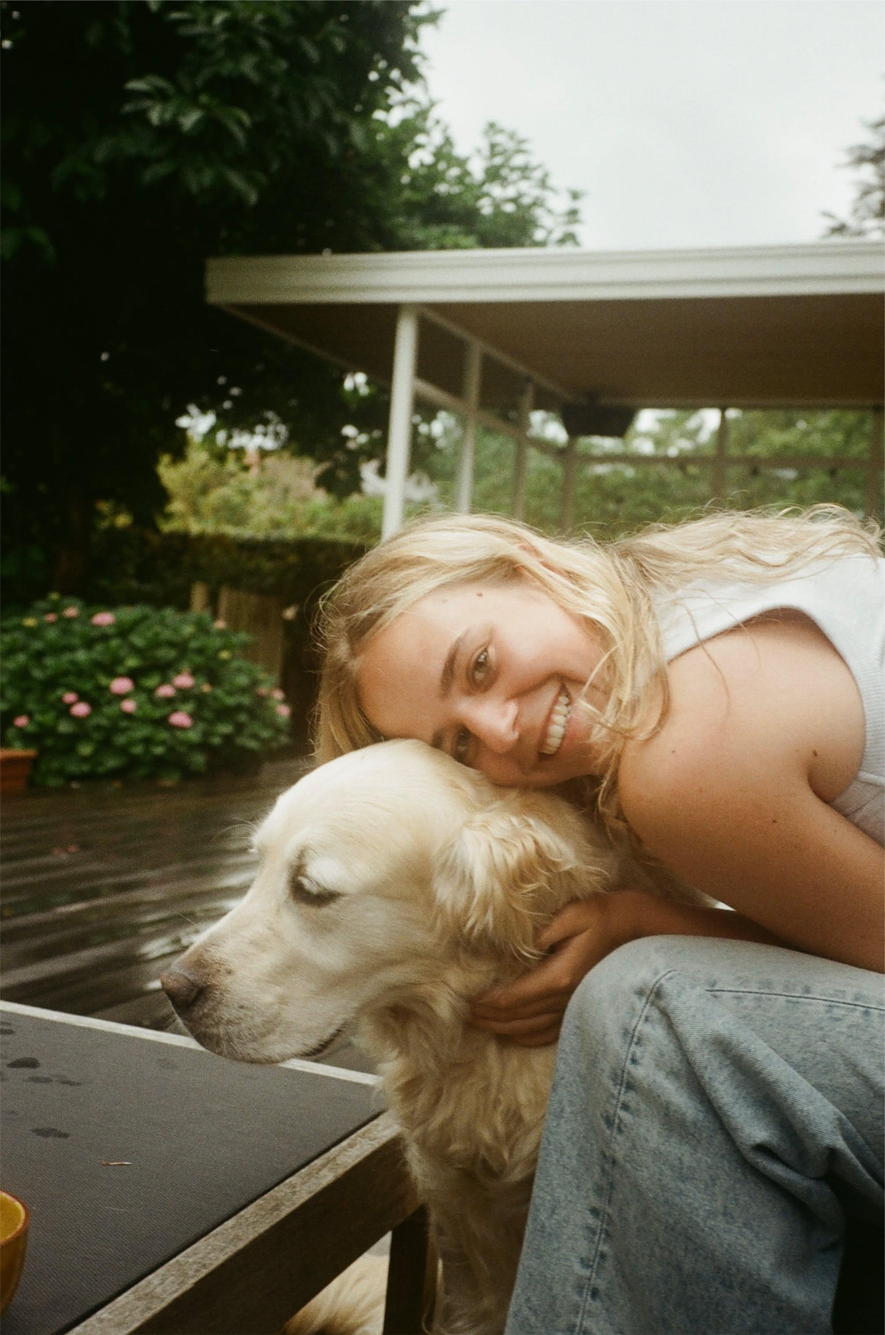adult_dog: (159, 739, 687, 1335)
non-dog: (314, 504, 885, 1335)
